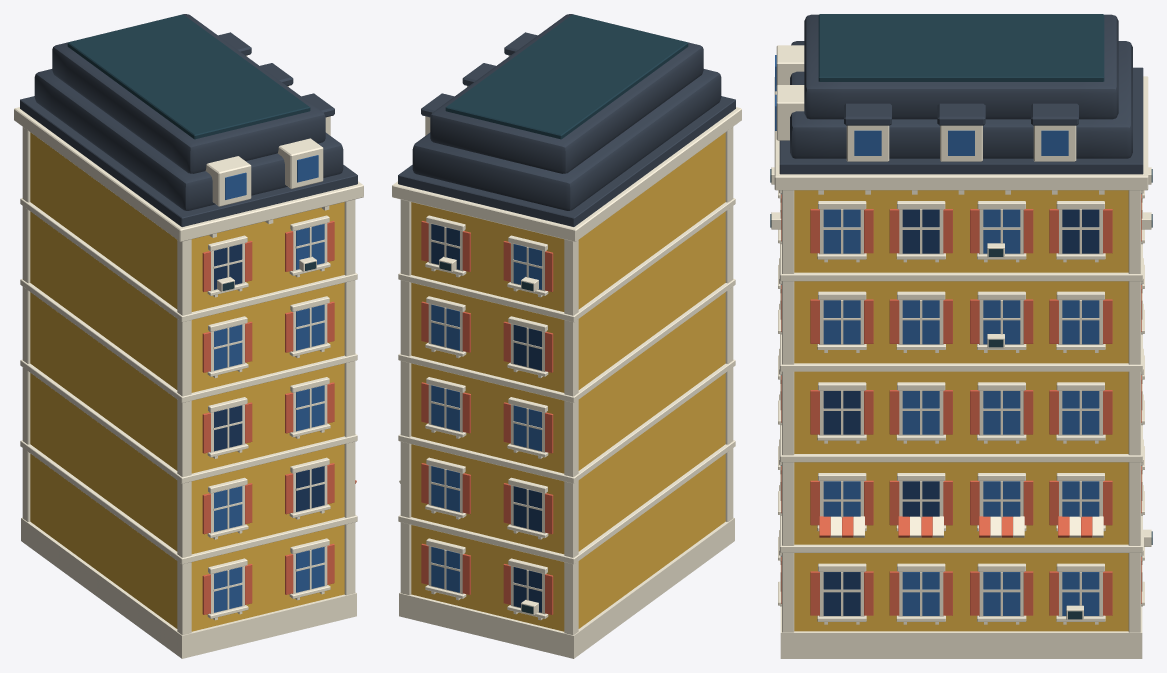
Rendered from edificio_1.glb.
3 renders of one model, left to right at view 1: azimuth 30°, elevation 25°; view 2: azimuth 150°, elevation 25°; view 3: azimuth 270°, elevation 25°, orthographic. The views are drawn at different scales.
Parts seen in each view (by area): view 1: Edificio_1_Ocre; view 2: Edificio_1_Ocre; view 3: Edificio_1_Ocre.
Boxes of the visible parts, x1,y1,x2,y2 form: Edificio_1_Ocre: (14, 14, 363, 658); Edificio_1_Ocre: (392, 14, 741, 658); Edificio_1_Ocre: (770, 14, 1152, 658).
Bounding box in the file's own units: 9.82 × 24.05 × 14.73.
